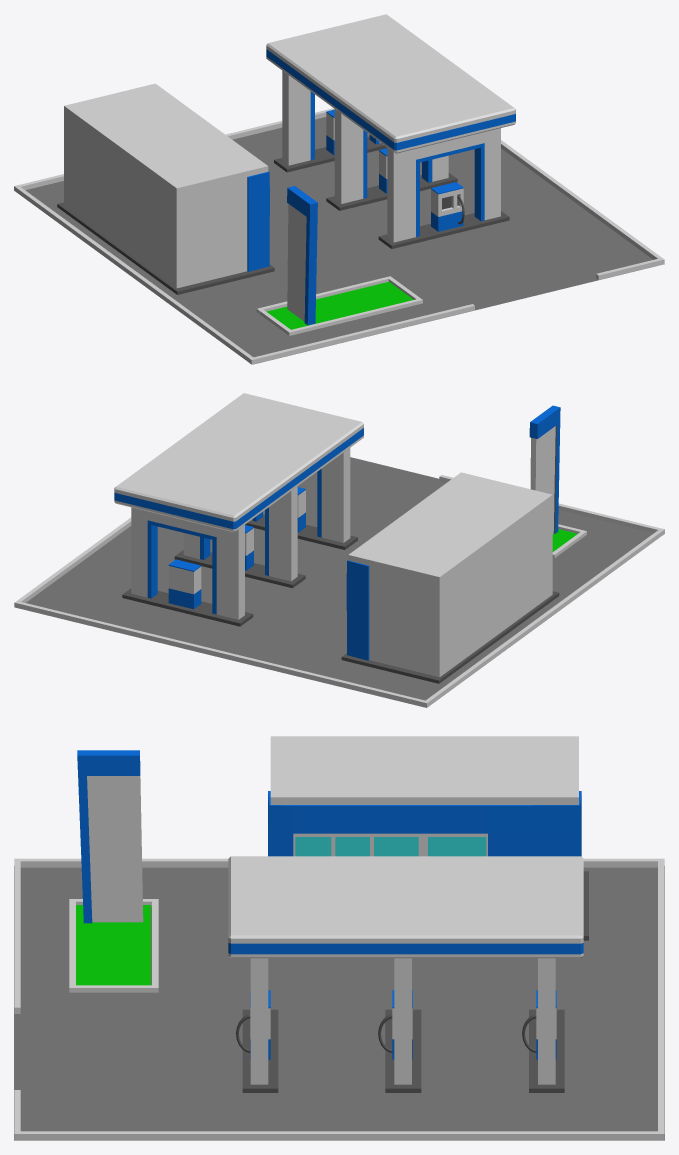
Rendered from Old Gas Station.fbx.
The picture shows the model from 3 angles, top to bottom: view 1: azimuth 30°, elevation 25°; view 2: azimuth 150°, elevation 25°; view 3: azimuth 270°, elevation 25°; orthographic projection. The views are drawn at different scales.
Visible parts, largest first — view 1: polySurface4; view 2: polySurface4; view 3: polySurface4.
Part boxes in pixels (x1,y1,x2,y2): polySurface4: (14,14,664,364); polySurface4: (14,393,664,707); polySurface4: (14,736,664,1140).
Bounding box in the file's own units: 79.71 × 23 × 79.55.
